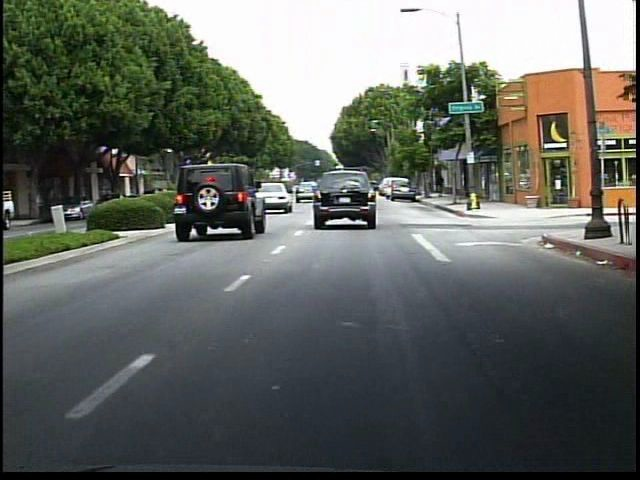person: (430, 166, 450, 202)
